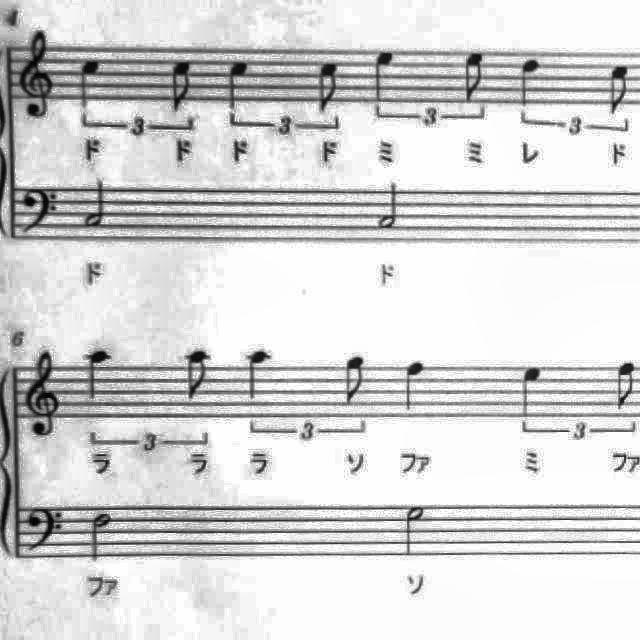Bass-clef: (22, 502, 72, 562), (14, 181, 62, 243)
Eighth-note: (162, 55, 202, 121), (599, 56, 637, 120), (309, 57, 347, 119), (336, 348, 374, 410), (454, 46, 492, 106), (180, 344, 218, 404), (606, 352, 640, 416)
Half-note: (77, 175, 113, 233), (85, 506, 119, 566), (400, 499, 432, 561), (372, 177, 406, 235)
Quarter-note: (365, 44, 403, 120), (396, 354, 434, 420), (238, 344, 278, 406), (82, 342, 118, 408), (220, 55, 258, 117), (72, 49, 108, 114), (514, 360, 550, 424), (512, 50, 548, 112)
Treble-clef: (18, 346, 66, 444), (14, 24, 58, 124)
